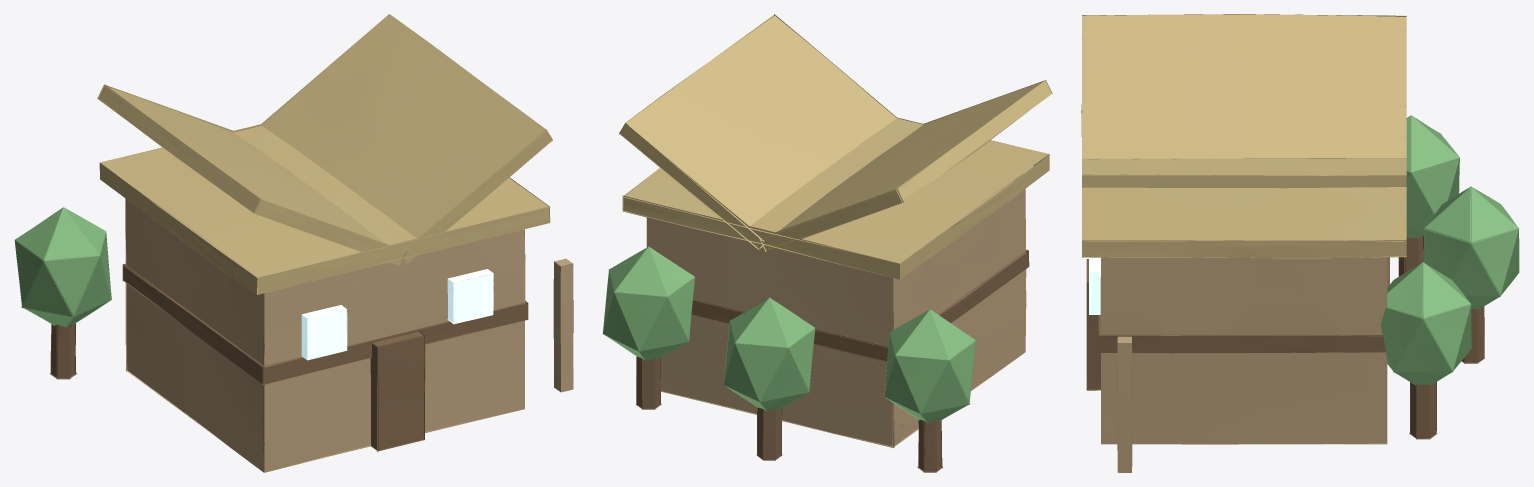
File: forester.glb
3 renders of one model, left to right at view 1: azimuth 30°, elevation 25°; view 2: azimuth 150°, elevation 25°; view 3: azimuth 270°, elevation 25°, orthographic. The views are drawn at different scales.
Parts seen in each view (by area): view 1: ForesterWall; view 2: ForesterWall; view 3: ForesterWall.
Boxes of the visible parts, <box> form: ForesterWall: <box>14,14,573,472</box>; ForesterWall: <box>602,14,1052,472</box>; ForesterWall: <box>1081,14,1519,472</box>.
Size of the model in its own units: 2.04 by 1.36 by 1.83.
